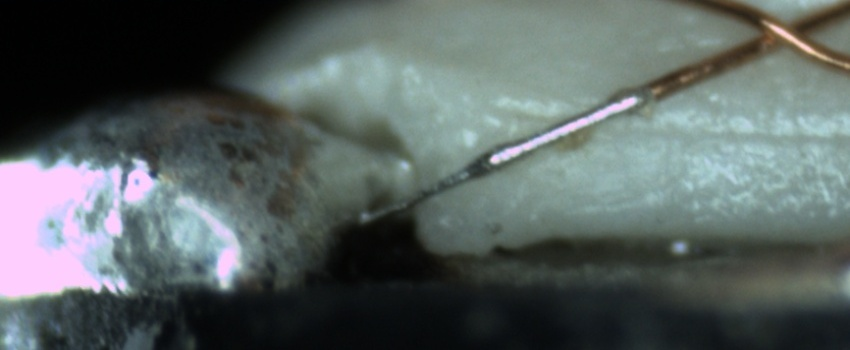CL: (739, 1, 838, 62)
DL: (505, 100, 850, 155)
TS: (352, 87, 651, 233)
TTCW: (341, 67, 685, 235)
